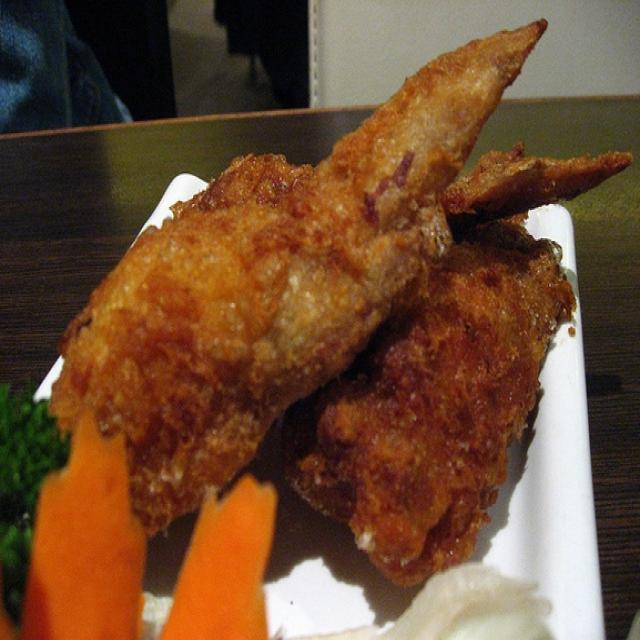Deep fried chicken wing: (81, 15, 609, 593)
